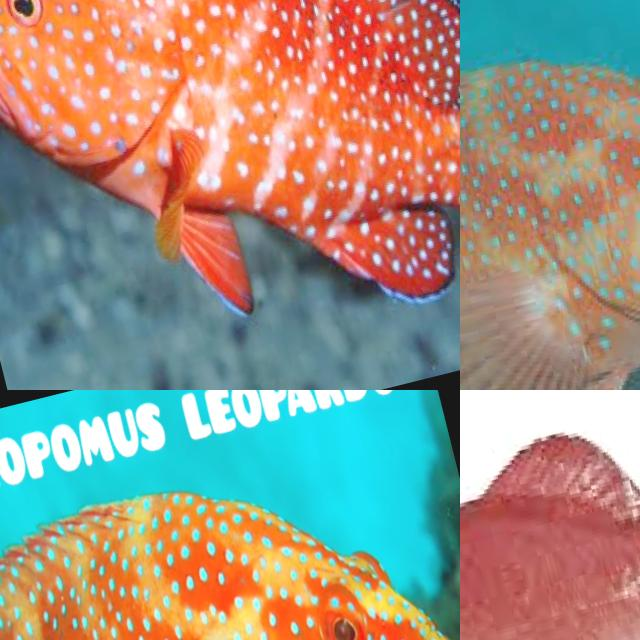Plectropomus-leopardus: (0, 0, 460, 390), (0, 429, 460, 640), (460, 0, 640, 390), (460, 390, 640, 640)
